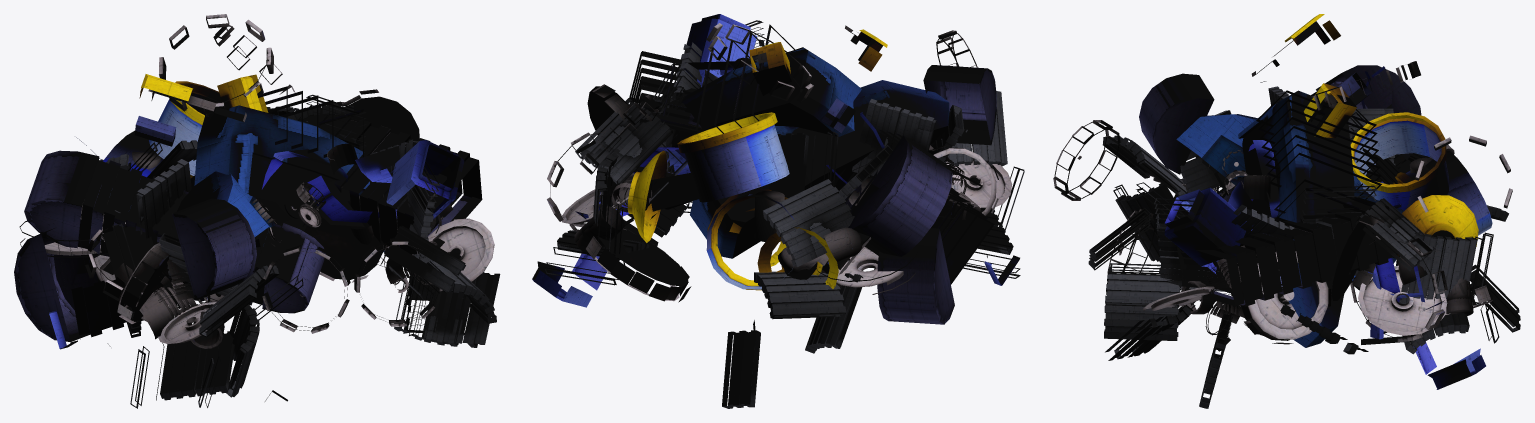
The model's file is PlayerB_die14.obj.
The picture shows the model from 3 angles, left to right: view 1: azimuth 30°, elevation 25°; view 2: azimuth 150°, elevation 25°; view 3: azimuth 270°, elevation 25°; orthographic projection. The views are drawn at different scales.
Visible parts, largest first — view 1: Object005; view 2: Object005; view 3: Object005.
Boxes of the visible parts, x1,y1,x2,y2 form: Object005: (14, 14, 500, 408); Object005: (532, 14, 1024, 408); Object005: (1053, 14, 1520, 408).
Size of the model in its own units: 200 by 149 by 210.
2 materials, 2 textured.
